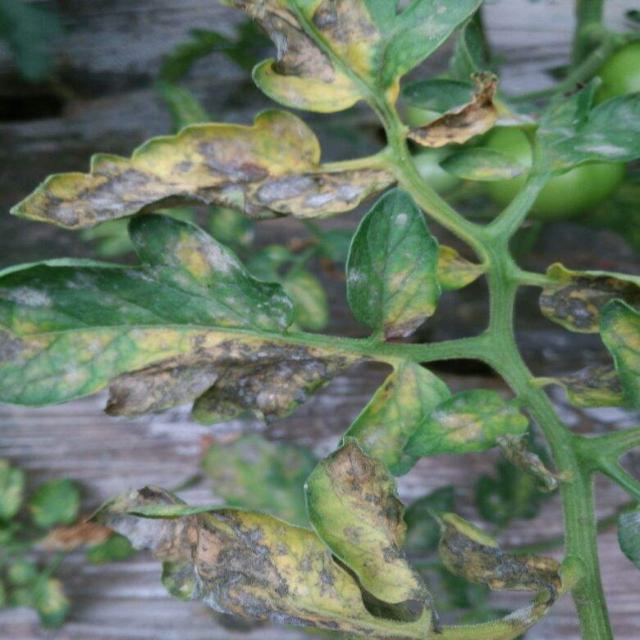Early_blight: (7, 113, 399, 227), (101, 487, 366, 640), (99, 324, 374, 426), (318, 441, 433, 605), (224, 1, 380, 111), (434, 511, 560, 595), (403, 70, 501, 150), (541, 268, 640, 334), (501, 432, 559, 495), (1, 319, 51, 377), (562, 360, 627, 402), (380, 303, 436, 342), (444, 246, 482, 289)
